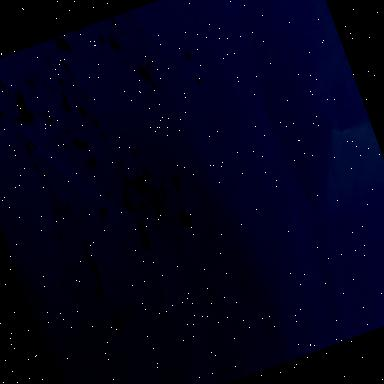pbw: (178, 212, 194, 230)
